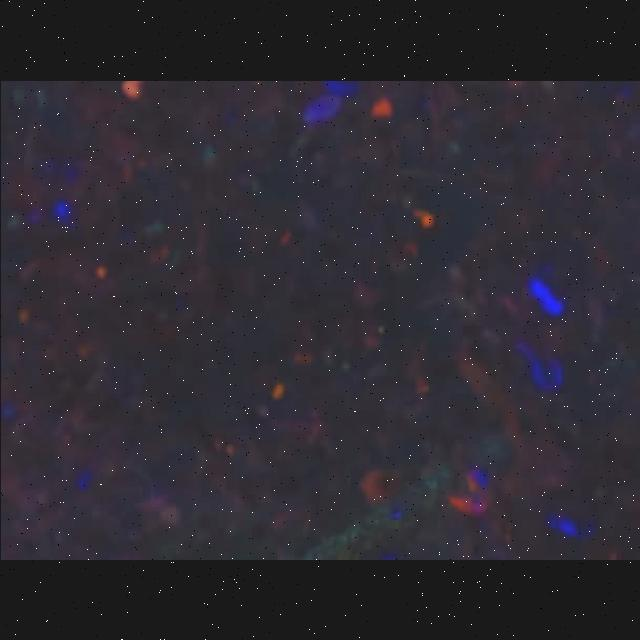Fragment: (121, 81, 143, 100)
